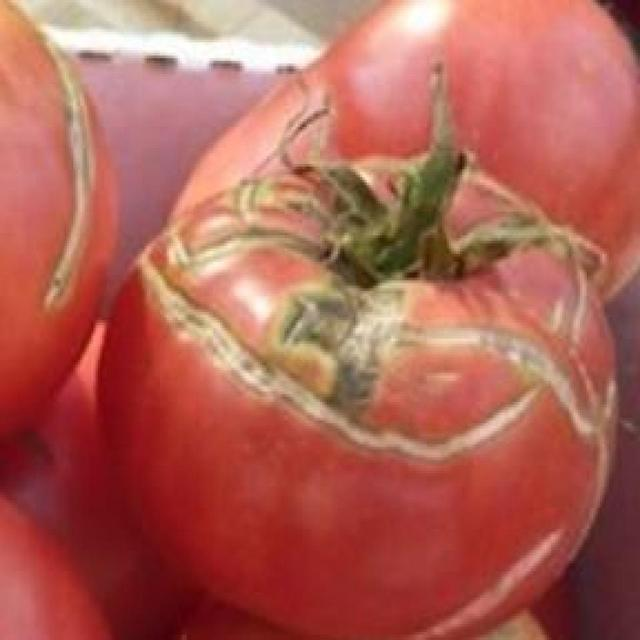Cracking Fruit: (41, 73, 303, 382)
